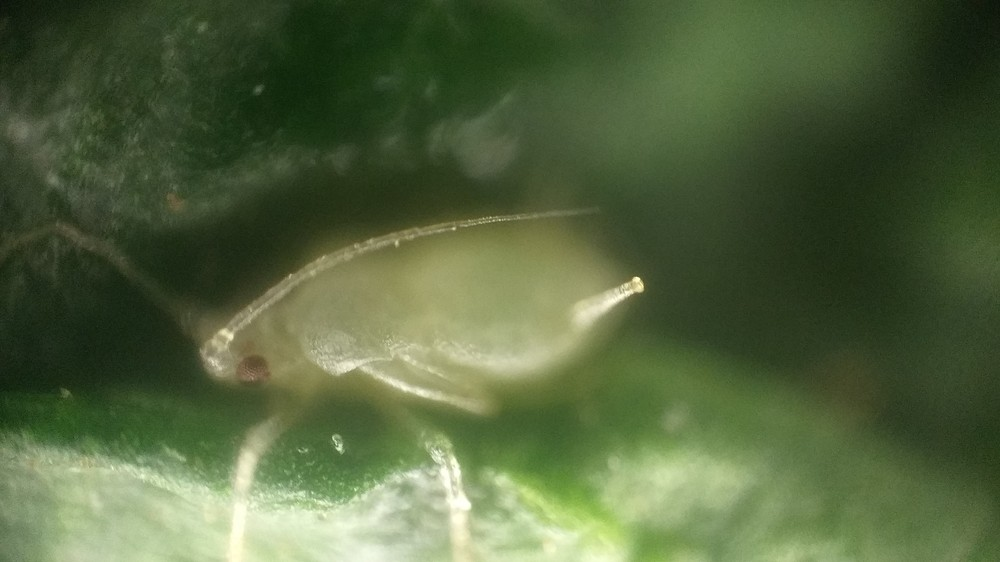Pulgon: (91, 174, 686, 562)
